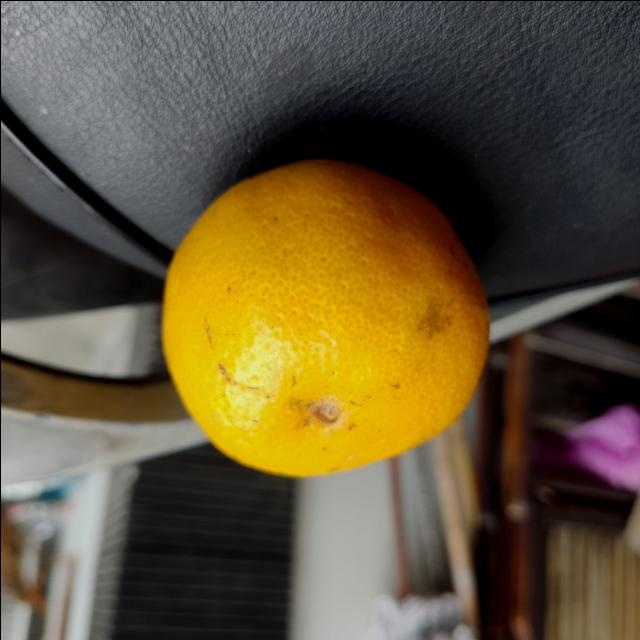agrume: (156, 152, 492, 482)
